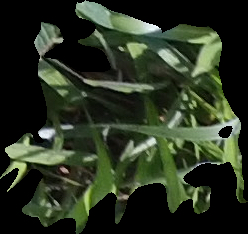grass: (1, 1, 246, 233)
